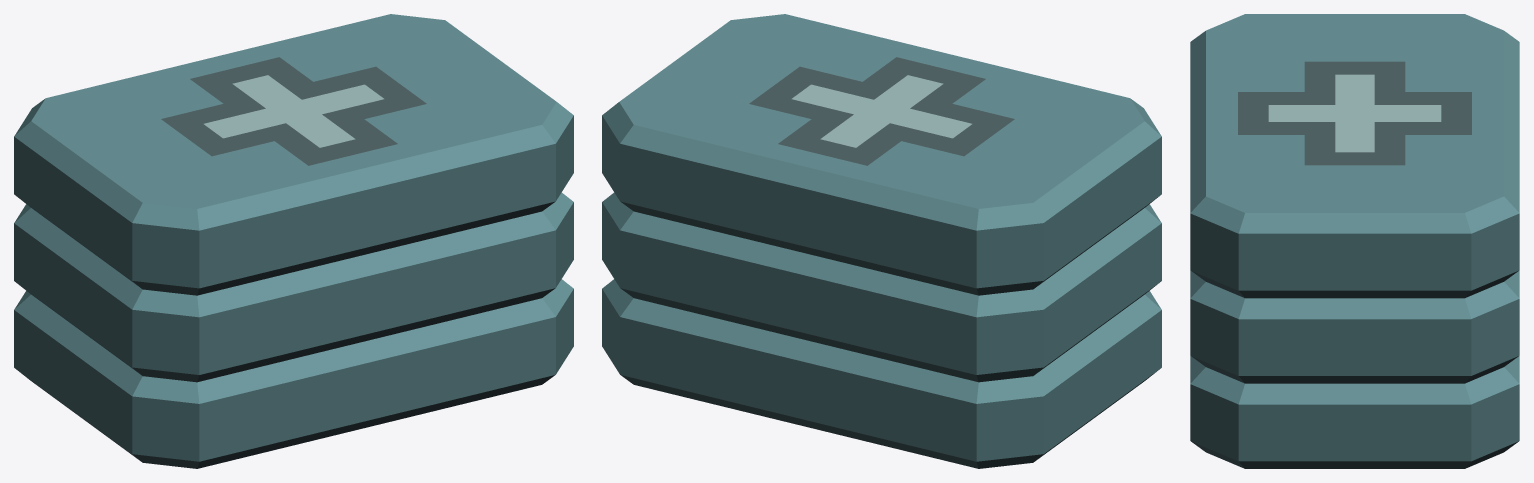
The model's file is item_medicine_industrial_c.obj.
3 views of the same model, side by side, from view 1: azimuth 30°, elevation 25°; view 2: azimuth 150°, elevation 25°; view 3: azimuth 270°, elevation 25° (orthographic).
Size of the model in its own units: 0.672 by 0.378 by 0.441.
